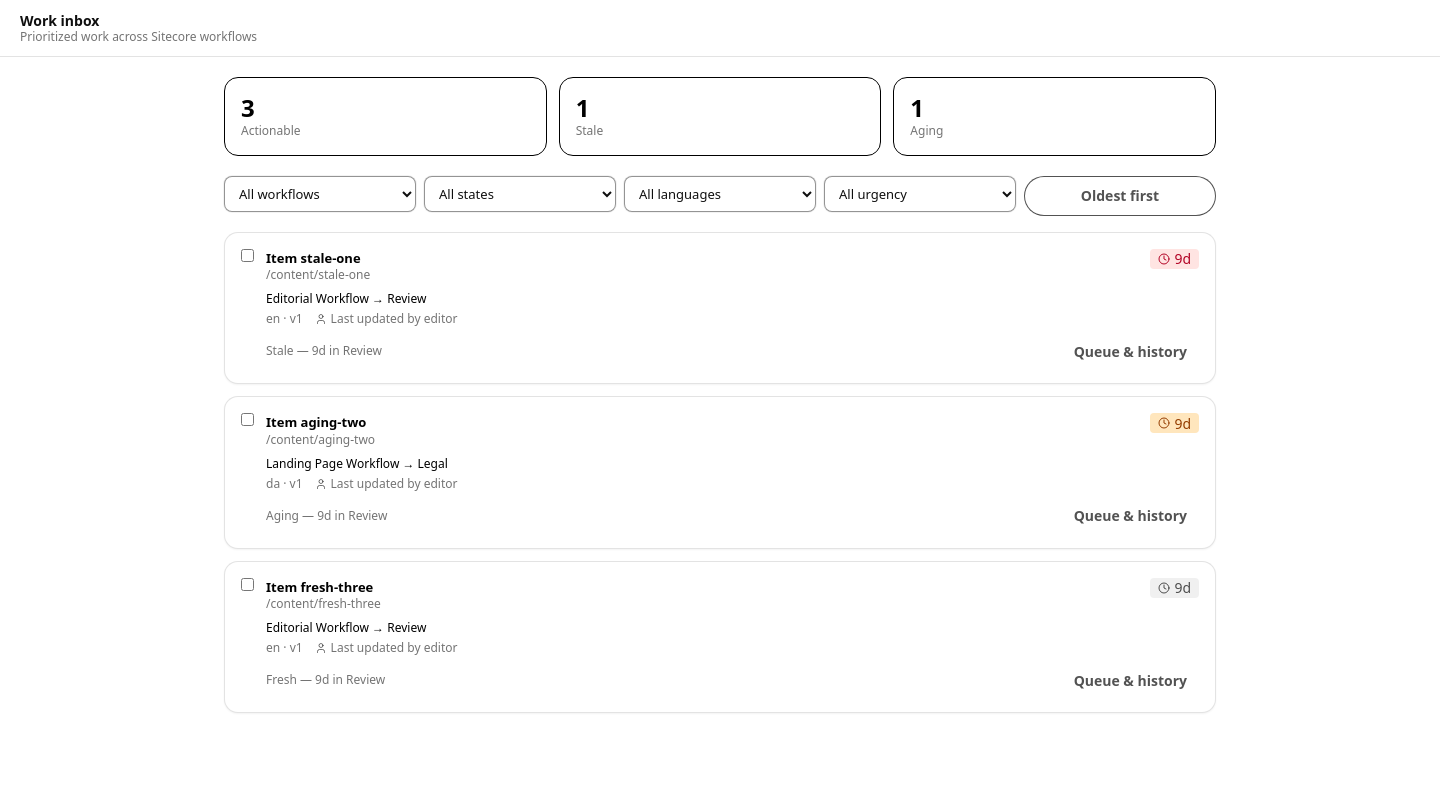
Scenario: Work inbox › re-resolves each item with its own fresh read immediately before its write
Step 1. Click the checkbox with test id "checkbox-inbox-stale-one" → {"x": 248, "y": 255}, box top-left (241, 249), bottom-right (254, 262)
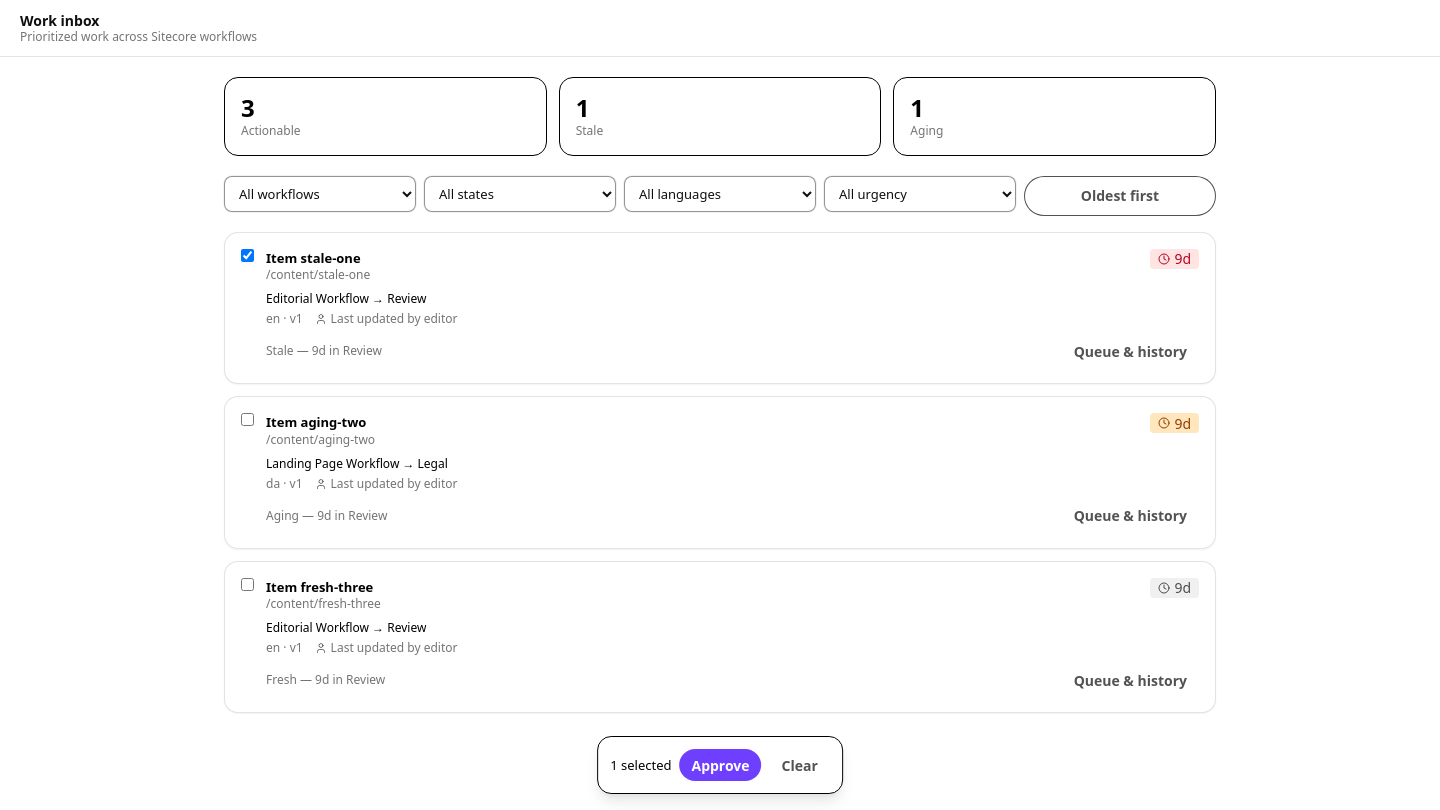
Step 2. Click the checkbox named "Select Item aging-two" → {"x": 248, "y": 420}, box top-left (241, 413), bottom-right (254, 426)
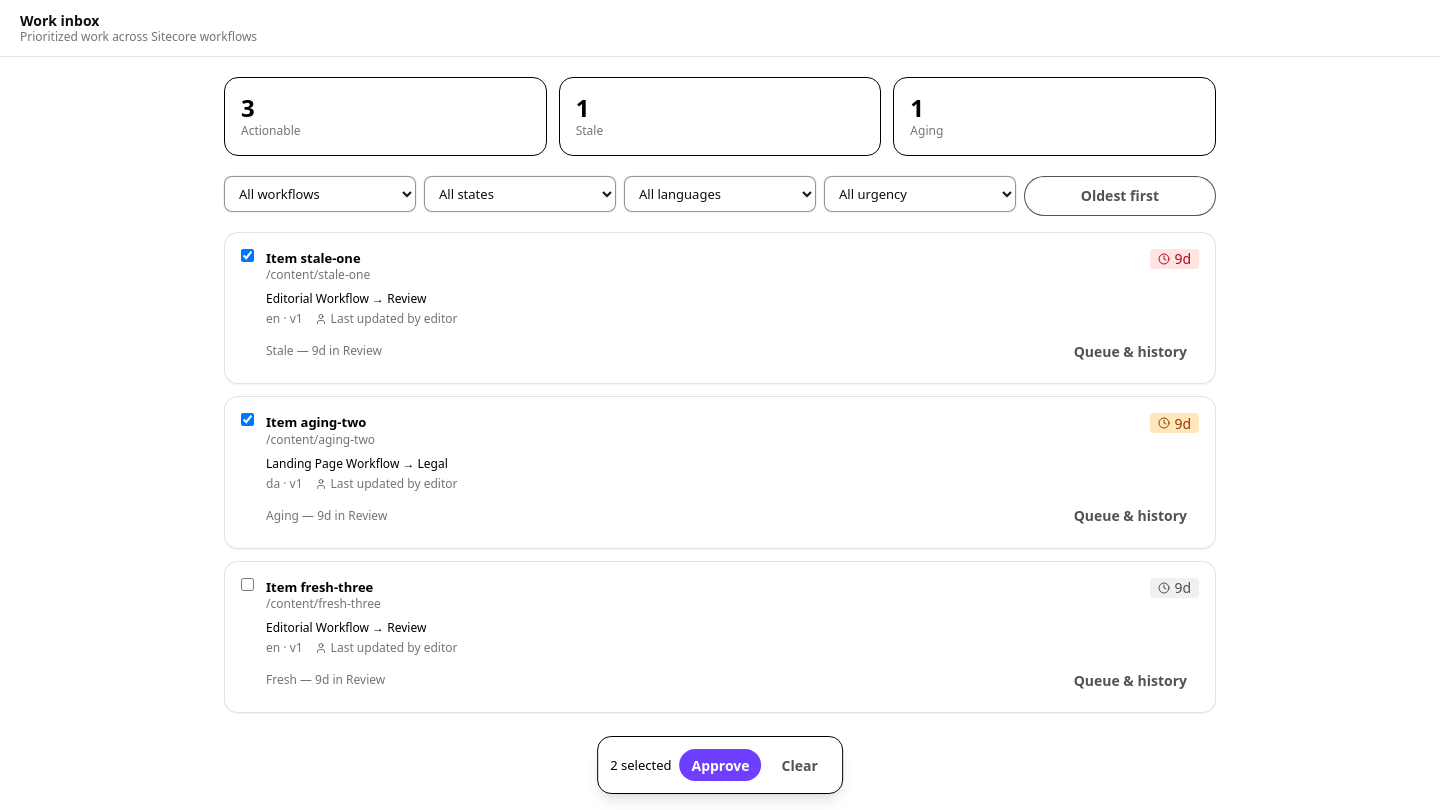
Step 3. Click the checkbox with test id "checkbox-inbox-fresh-three" → {"x": 248, "y": 584}, box top-left (241, 578), bottom-right (254, 591)
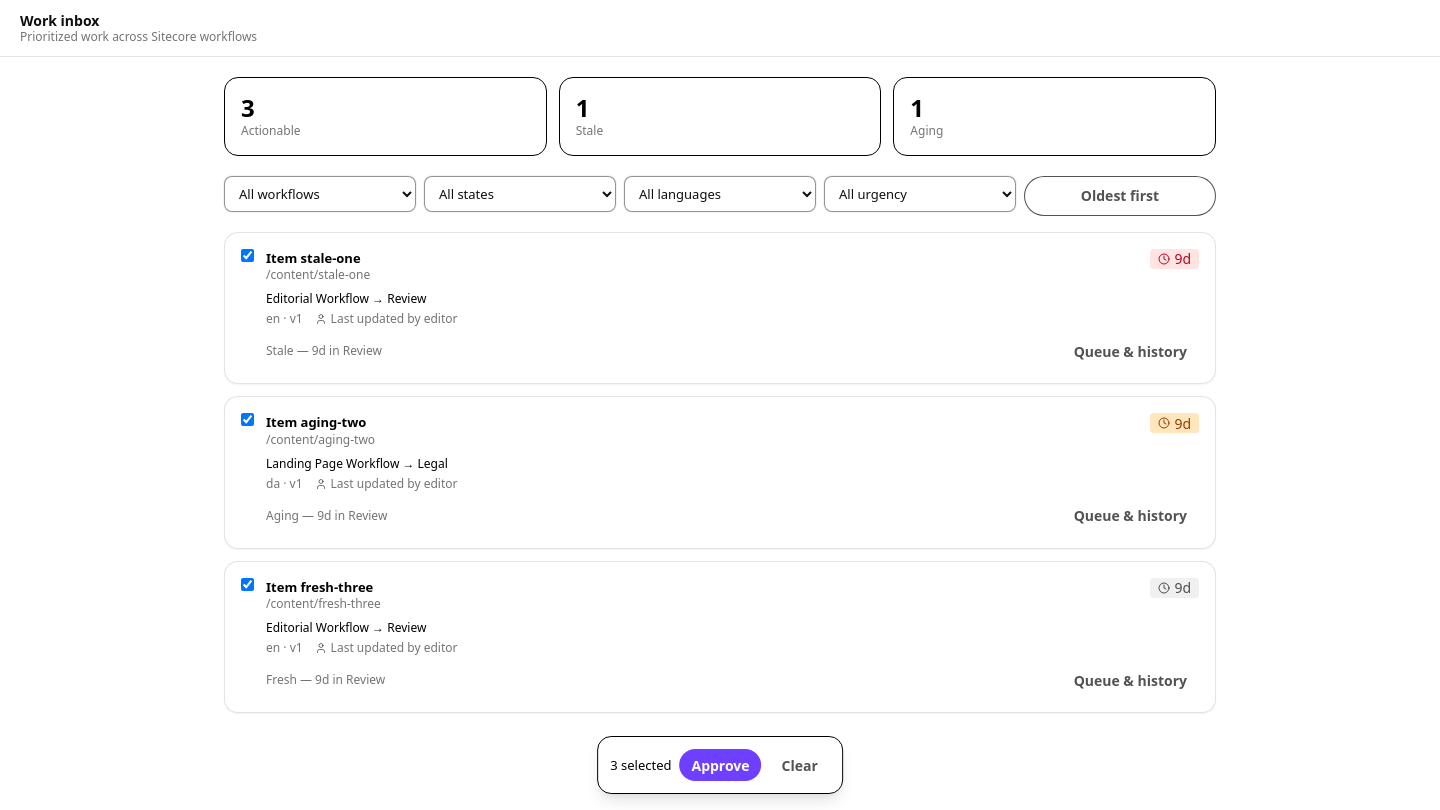
Step 4. Click the button with test id "button-bulk-approve" → {"x": 721, "y": 765}, box top-left (680, 749), bottom-right (762, 781)
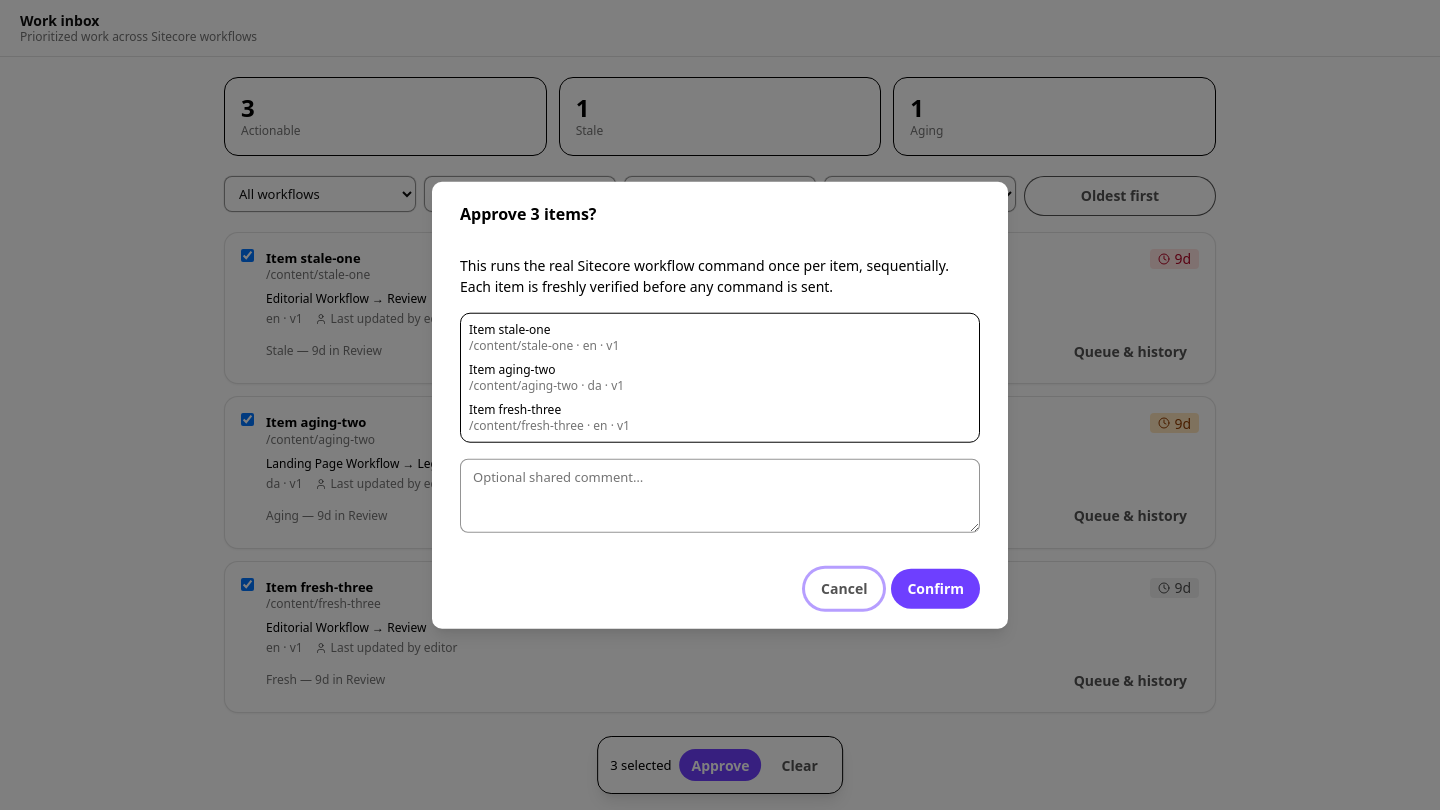
Step 5. Click the button with test id "button-confirm-bulk" → {"x": 936, "y": 588}, box top-left (891, 568), bottom-right (980, 608)
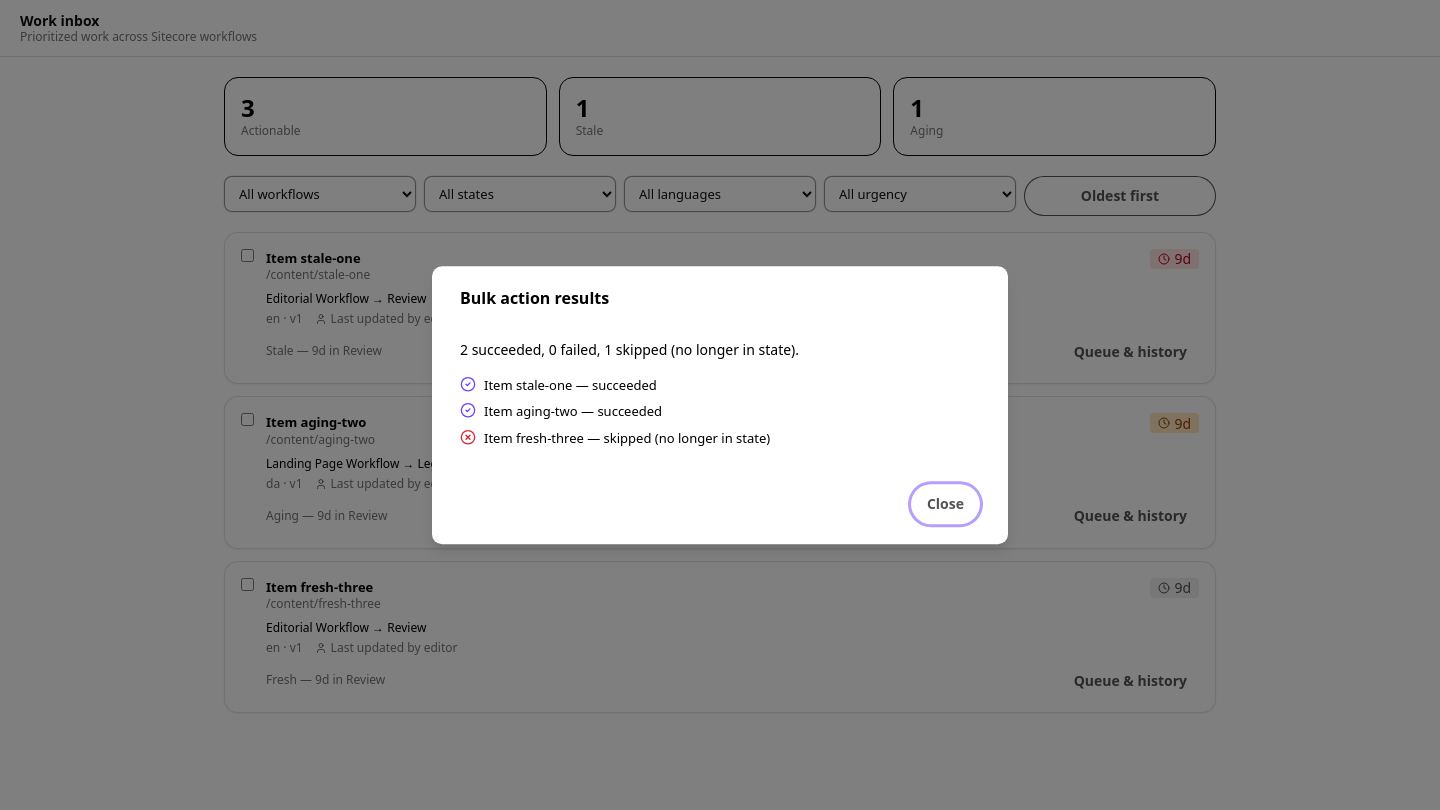
Result: the text "2 succeeded, 0 failed, 1 skipped (no longer in state)." is shown at top-left (460, 340), bottom-right (799, 359)
Result: the list item with test id "result-stale-fresh-three" is shown at top-left (460, 429), bottom-right (770, 447)
